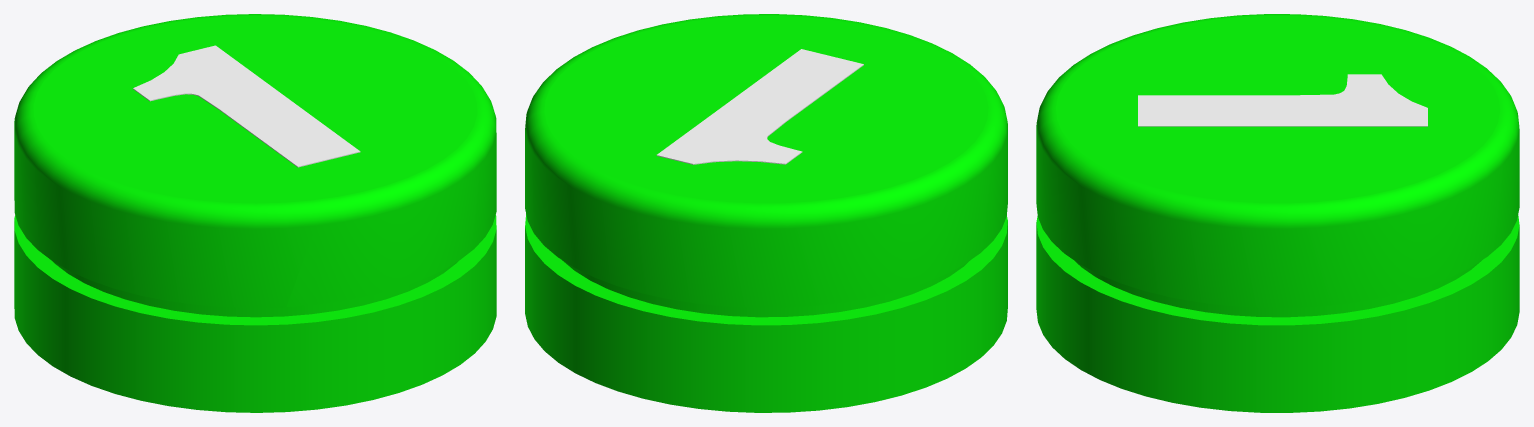
The model's file is nubot_frame1_green.dae.
The picture shows the model from 3 angles, left to right: view 1: azimuth 30°, elevation 25°; view 2: azimuth 150°, elevation 25°; view 3: azimuth 270°, elevation 25°; orthographic projection.
Parts seen in each view (by area): view 1: SketchUp (×3), instance_0; view 2: SketchUp (×3), instance_0; view 3: SketchUp (×3), instance_0.
Boxes of the visible parts, x1,y1,x2,y2 form: SketchUp (×3): [14, 14, 496, 412]; instance_0: [133, 45, 360, 167]; SketchUp (×3): [525, 14, 1007, 412]; instance_0: [656, 49, 863, 164]; SketchUp (×3): [1036, 14, 1519, 412]; instance_0: [1138, 74, 1427, 126].
Bounding box in the file's own units: 19.66 × 19.68 × 9.09.
